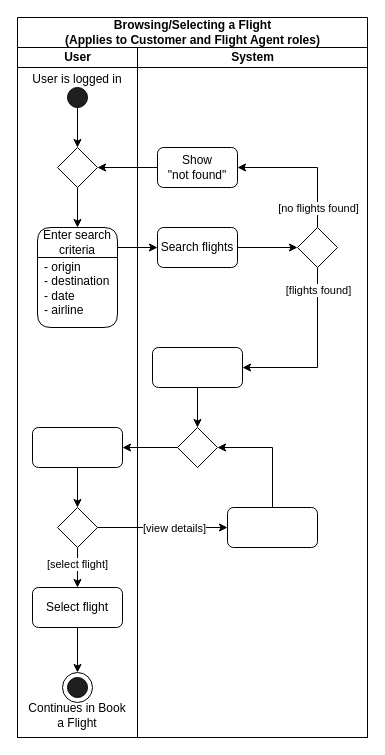
This 385x755 diagram has some shape labels left out. Each missing label, with the centre of its shape:
Display matching flights: the point at 197,367
Review results: the point at 77,447
Show flight details: the point at 272,527
